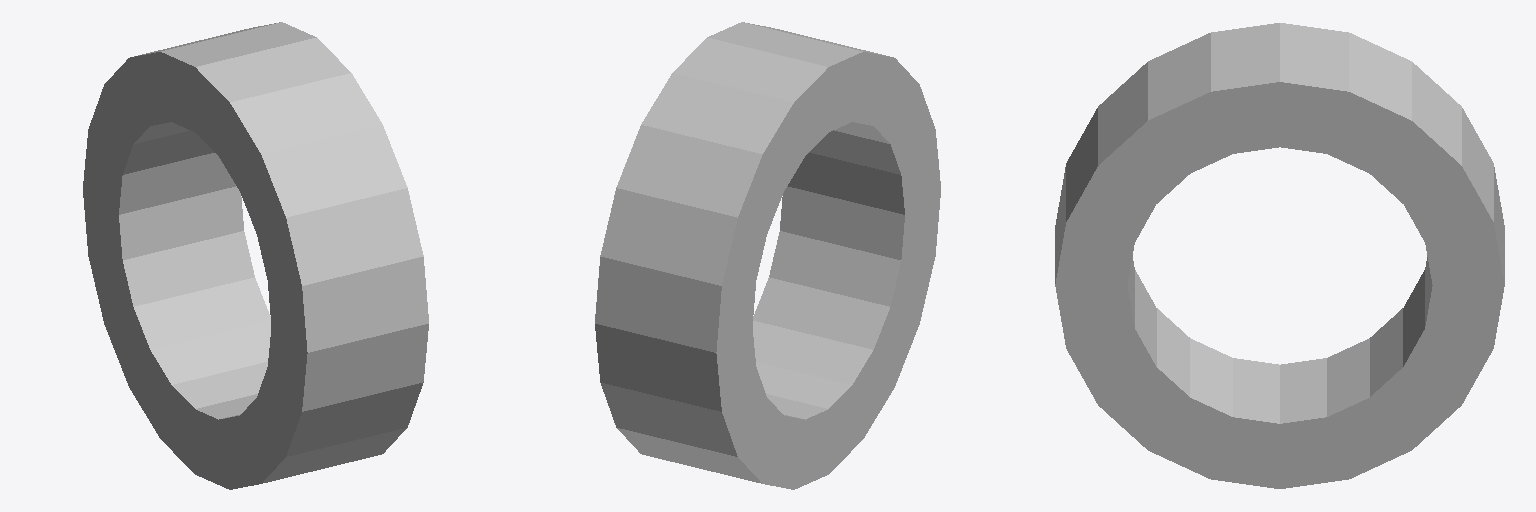
File: NewOutline.obj
3 views of the same model, side by side, from view 1: azimuth 30°, elevation 25°; view 2: azimuth 150°, elevation 25°; view 3: azimuth 270°, elevation 25° (orthographic).
Parts seen in each view (by area): view 1: Cylinder_Cylinder.002; view 2: Cylinder_Cylinder.002; view 3: Cylinder_Cylinder.002.
Boxes of the visible parts, x1,y1,x2,y2 form: Cylinder_Cylinder.002: [83, 22, 428, 489]; Cylinder_Cylinder.002: [595, 22, 940, 489]; Cylinder_Cylinder.002: [1055, 23, 1504, 488].
Size of the model in its own units: 1 by 3.2 by 3.2.